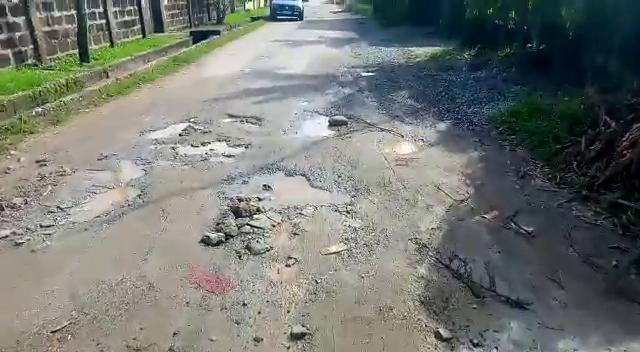pothole: (214, 165, 357, 208), (58, 155, 146, 224), (138, 120, 194, 142), (181, 136, 248, 154), (292, 113, 336, 140), (376, 133, 424, 155)
